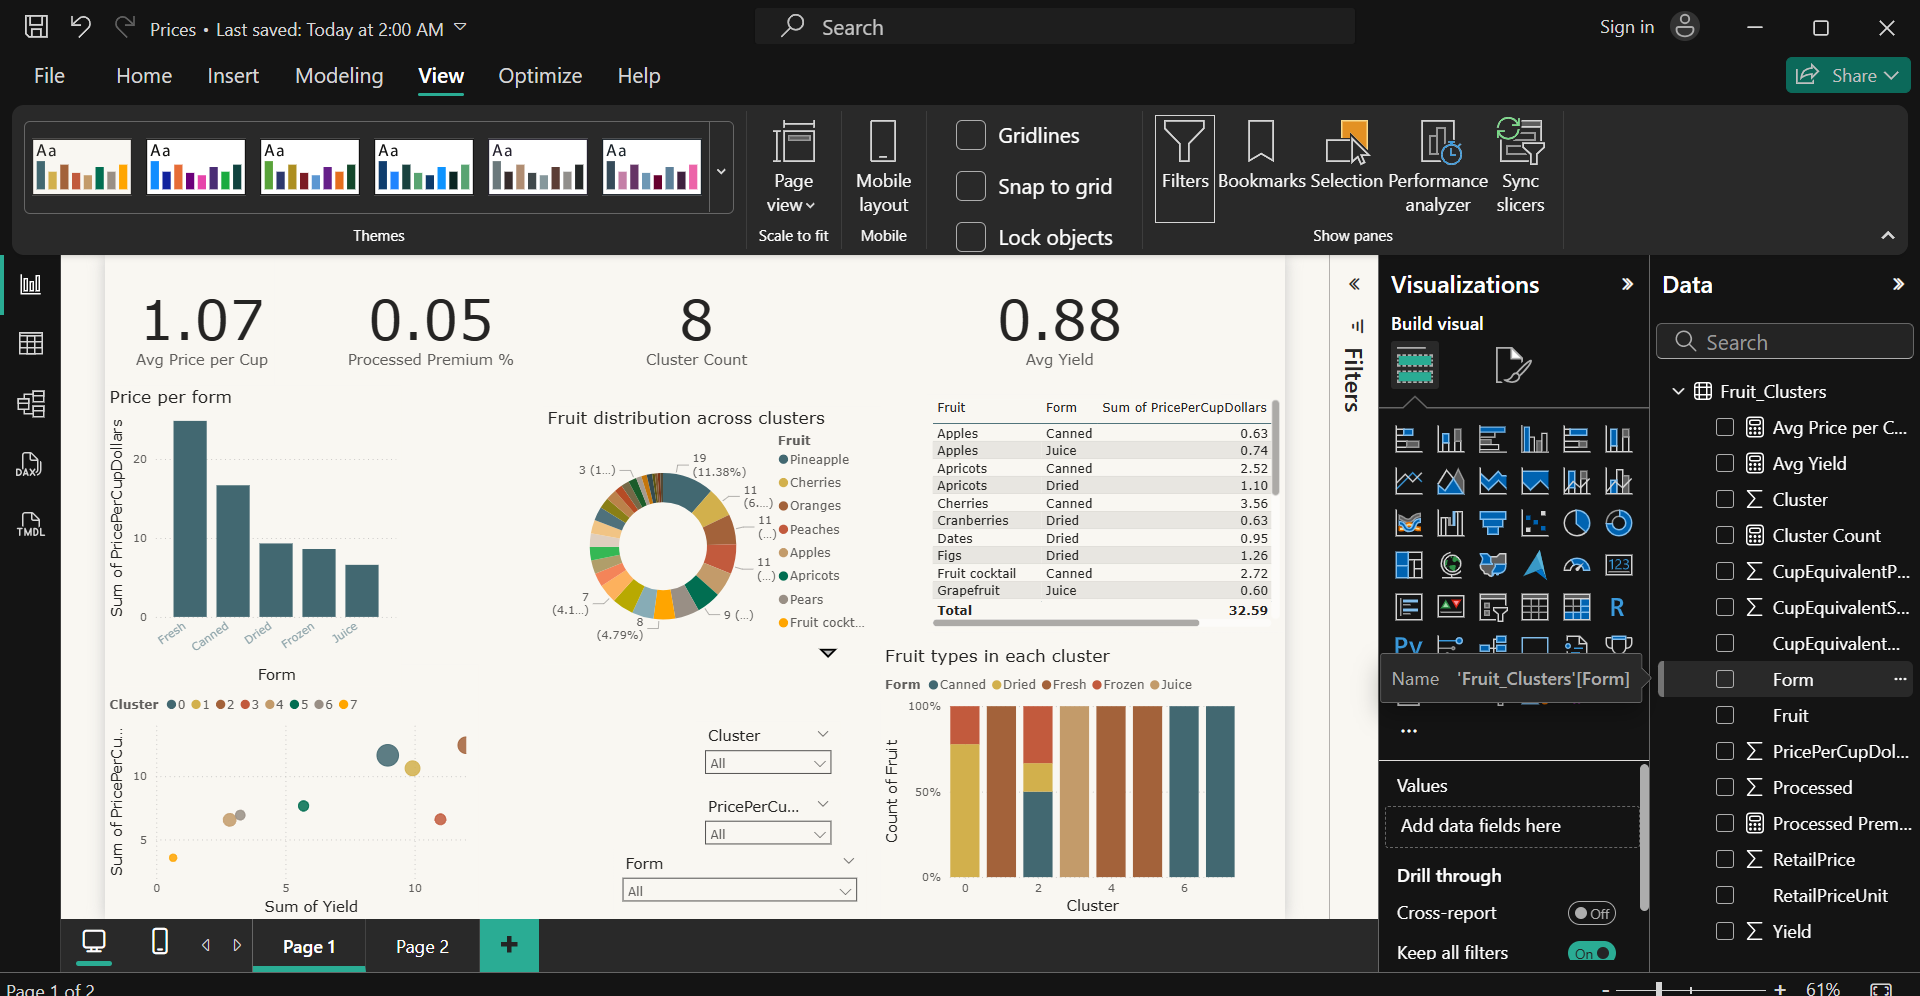

What the dashboard file says about the page in this screenshot:
{"tool":"powerbi","page":{"name":"Page 1","canvas":[1280,720],"ordinal":0},"visuals":[{"type":"donutChart","title":"Fruit distribution across clusters","fields":{"Y":["Sum(Fruit_Clusters.Cluster)"],"Category":["Fruit_Clusters.Fruit"]},"box":[474.3,164.4,366.6,279.7],"z":0},{"type":"hundredPercentStackedColumnChart","title":"Fruit types in each cluster","fields":{"Category":["Fruit_Clusters.Cluster"],"Y":["CountNonNull(Fruit_Clusters.Fruit)"],"Series":["Fruit_Clusters.Form"]},"box":[841,423.3,389.3,296.7],"z":1000},{"type":"slicer","fields":{"Values":["Fruit_Clusters.PricePerCupDollars"]},"box":[640.6,582.1,156.9,85],"z":2000},{"type":"slicer","fields":{"Values":["Fruit_Clusters.Cluster"]},"box":[640.6,506.5,156.9,66.1],"z":3000},{"type":"card","fields":{"Values":["Fruit_Clusters.Cluster Count"]},"box":[563.2,0,156.9,151.2],"z":4000},{"type":"card","fields":{"Values":["Fruit_Clusters.Avg Yield"]},"box":[956.2,0,156.9,151.2],"z":5000},{"type":"card","fields":{"Values":["Fruit_Clusters.Avg Price per Cup"]},"box":[0,0,209.8,151.2],"z":6000},{"type":"card","fields":{"Values":["Fruit_Clusters.Processed Premium %"]},"box":[183.3,0,338.3,151.2],"z":7000},{"type":"scatterChart","title":"Price vs. Yield","fields":{"X":["Sum(Fruit_Clusters.Yield)"],"Y":["Sum(Fruit_Clusters.PricePerCupDollars)"],"Series":["Fruit_Clusters.Cluster"],"Size":["Sum(Fruit_Clusters.RetailPrice)"]},"box":[0,444.1,404.4,275.9],"z":8000},{"type":"tableEx","fields":{"Values":["Fruit_Clusters.Fruit","Fruit_Clusters.Form","Sum(Fruit_Clusters.PricePerCupDollars)","Sum(Fruit_Clusters.Yield)"]},"box":[892,151.2,387.4,257],"z":9000},{"type":"slicer","fields":{"Values":["Fruit_Clusters.Form"]},"box":[551.8,644.4,274,75.6],"z":10000},{"type":"clusteredColumnChart","title":"Price per form","fields":{"Category":["Fruit_Clusters.Form"],"Y":["Sum(Fruit_Clusters.PricePerCupDollars)"]},"box":[0,141.7,321.3,326.9],"z":11000}]}

Visuals, with their boxes on the page's 1280x720 design canvas (x1, y1, x2, y2). These are canvas units, not pixel positions in the 1920x996 screenshot, which may show the page scaled, cropped or inside an application window:
"Fruit distribution across clusters" donutChart: [left=474, top=164, right=841, bottom=444]
"Fruit types in each cluster" hundredPercentStackedColumnChart: [left=841, top=423, right=1230, bottom=720]
slicer - Fruit_Clusters.PricePerCupDollars: [left=641, top=582, right=798, bottom=667]
slicer - Fruit_Clusters.Cluster: [left=641, top=506, right=798, bottom=573]
card - Fruit_Clusters.Cluster Count: [left=563, top=0, right=720, bottom=151]
card - Fruit_Clusters.Avg Yield: [left=956, top=0, right=1113, bottom=151]
card - Fruit_Clusters.Avg Price per Cup: [left=0, top=0, right=210, bottom=151]
card - Fruit_Clusters.Processed Premium %: [left=183, top=0, right=522, bottom=151]
"Price vs. Yield" scatterChart: [left=0, top=444, right=404, bottom=720]
tableEx - Fruit_Clusters.Fruit x Fruit_Clusters.Form: [left=892, top=151, right=1279, bottom=408]
slicer - Fruit_Clusters.Form: [left=552, top=644, right=826, bottom=720]
"Price per form" clusteredColumnChart: [left=0, top=142, right=321, bottom=469]
